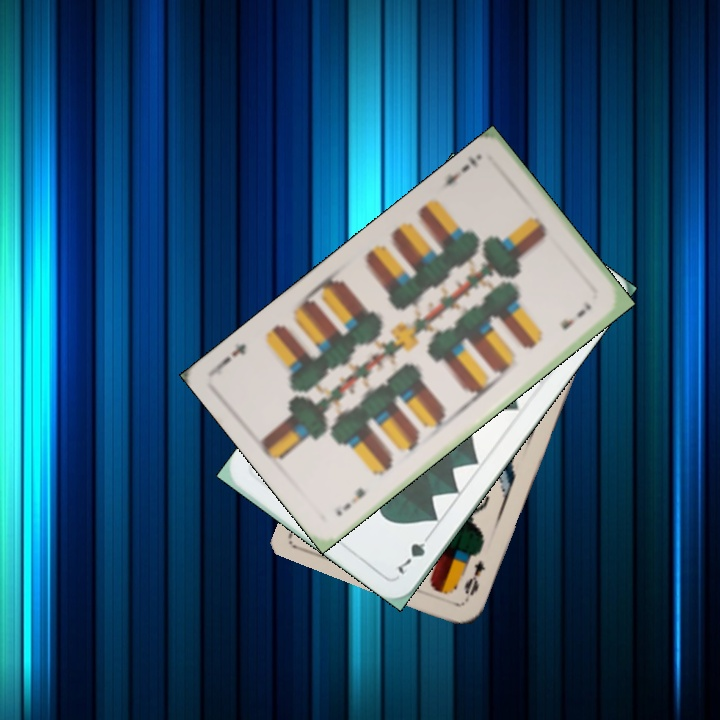E7: (436, 152, 481, 194), (330, 483, 368, 519)
EO: (460, 555, 488, 604)
G7: (393, 527, 435, 577)
